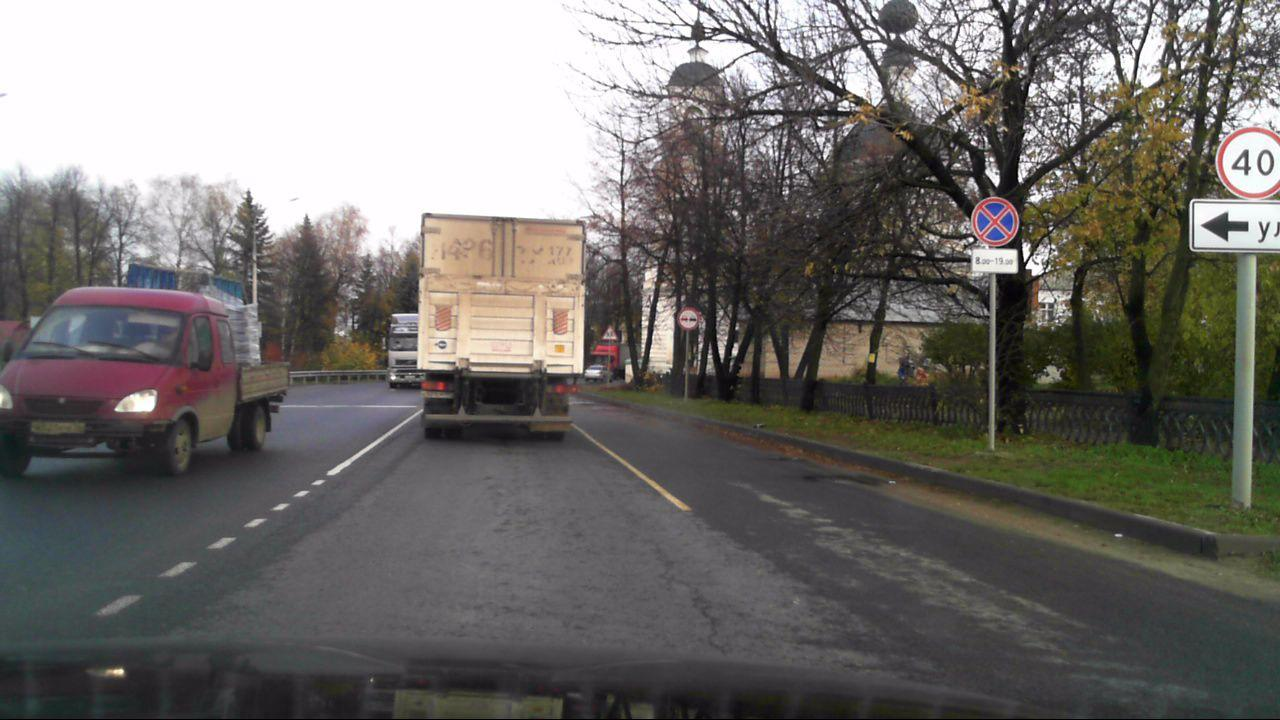1_23: (600, 324, 619, 341)
3_20: (676, 306, 700, 330)
3_24: (1213, 123, 1280, 200)
3_27: (971, 196, 1020, 247)
6_10_1: (1191, 202, 1280, 255)
8_5_4: (969, 248, 1018, 275)
